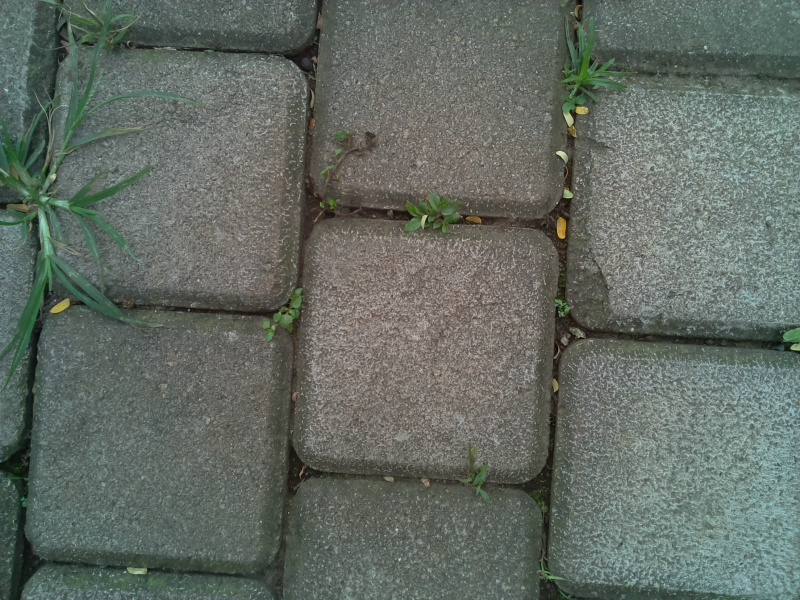Weed: (2, 54, 165, 365), (558, 20, 622, 121), (65, 4, 143, 52), (401, 191, 468, 241), (260, 285, 308, 337), (531, 543, 571, 591), (459, 453, 495, 496), (550, 294, 577, 323), (13, 491, 34, 518)
